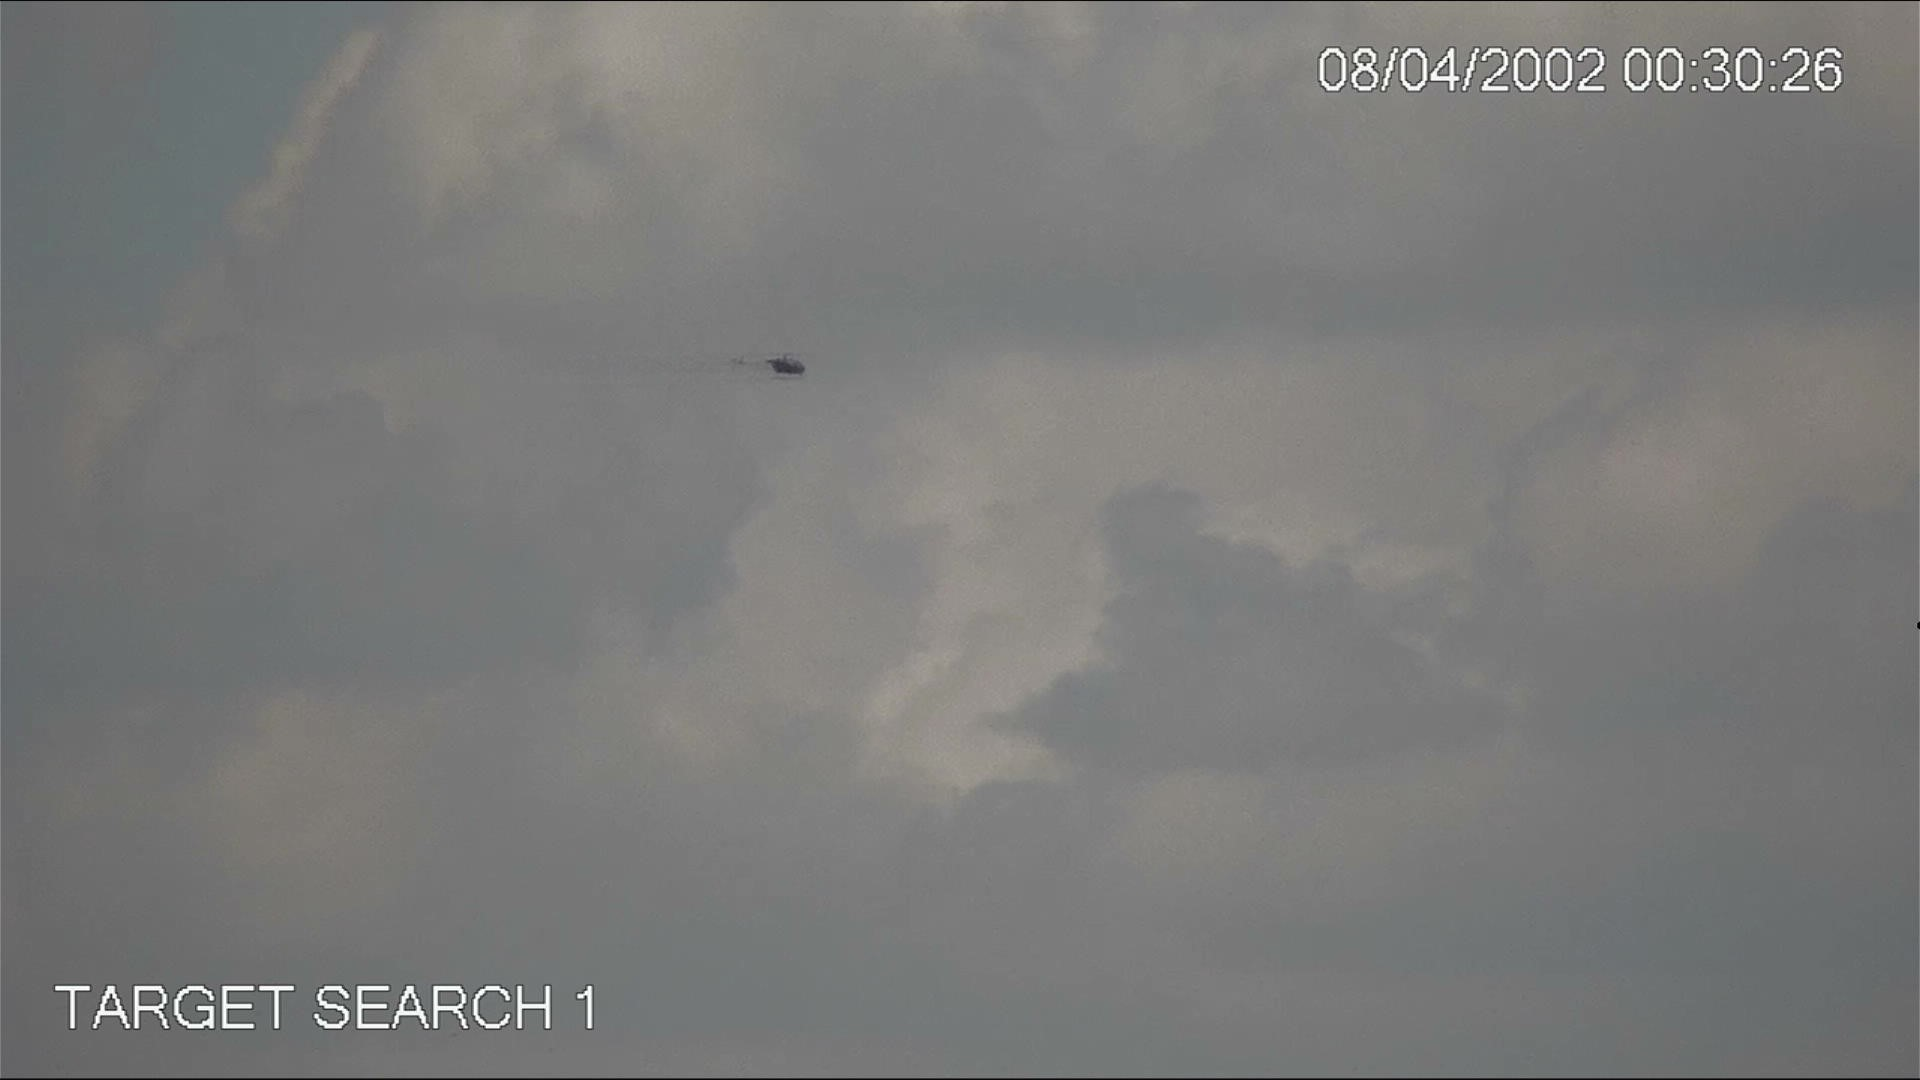SU_30: (729, 347, 818, 381)
